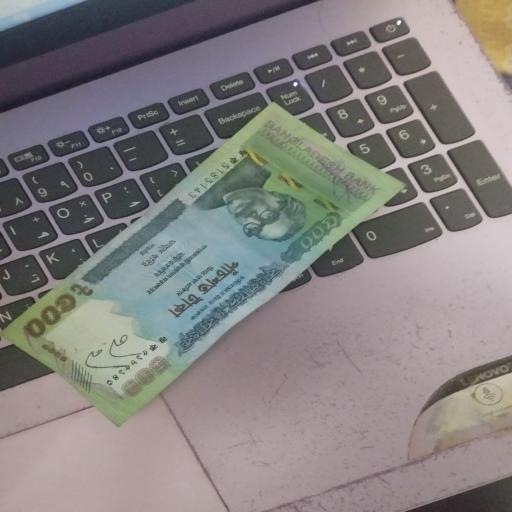500taka: (0, 99, 403, 431)
